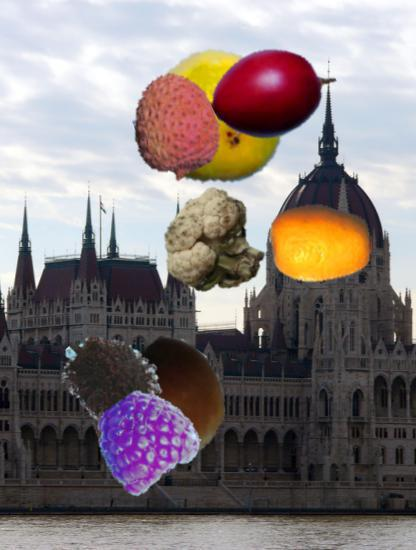Cauliflower: (163, 189, 270, 296)
Kumquats: (269, 192, 373, 296)
Lychee: (123, 72, 234, 183)
Maracuja: (137, 47, 285, 195)
Nut: (99, 342, 233, 476)
Rambutan: (59, 327, 161, 429)
Raspberry: (96, 389, 195, 488)
Tamarillo: (212, 30, 335, 153)
